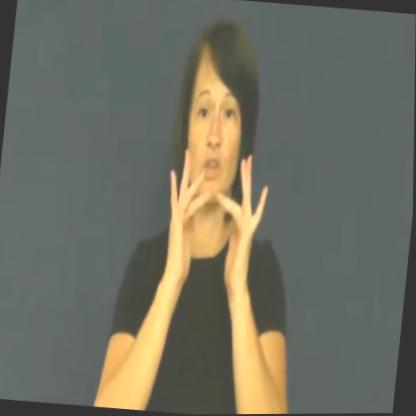Internet: (147, 133, 282, 340)
